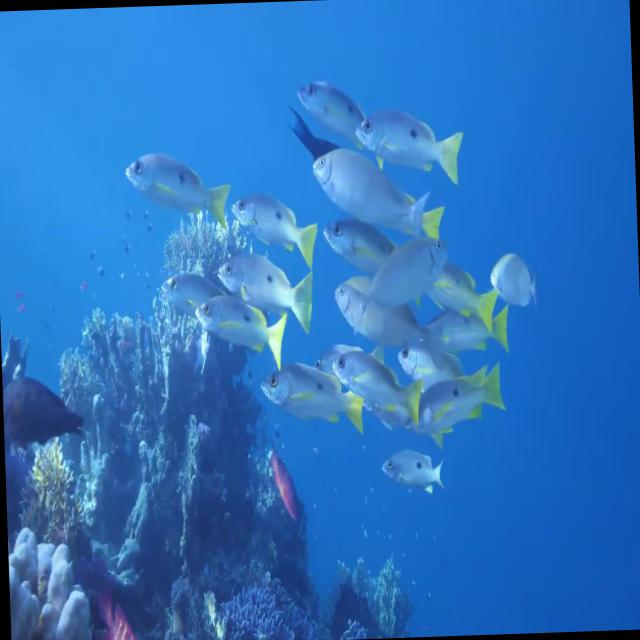fish: (309, 136, 448, 250), (352, 91, 472, 194), (214, 238, 322, 338), (335, 321, 434, 424), (122, 138, 232, 229), (195, 278, 292, 373), (262, 347, 356, 440), (416, 354, 514, 442), (1, 352, 92, 446), (351, 226, 452, 310), (226, 188, 320, 272), (418, 282, 524, 354), (317, 200, 400, 280), (422, 246, 502, 319), (376, 429, 444, 500), (298, 72, 369, 134), (256, 431, 306, 518), (328, 252, 382, 330), (395, 322, 462, 382), (484, 246, 543, 304), (89, 585, 150, 640), (161, 262, 228, 312)
